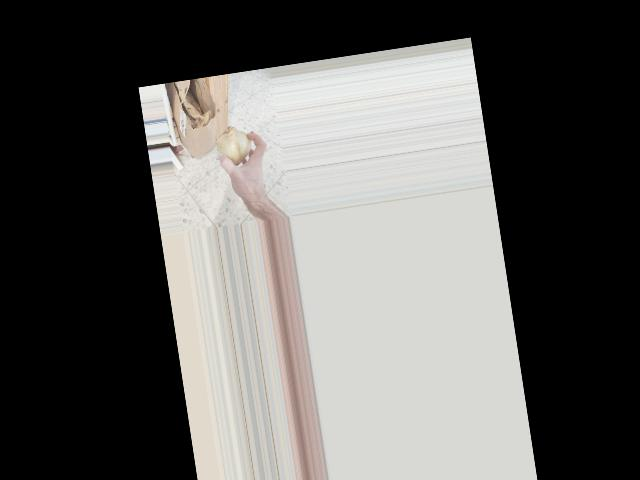onion: (212, 121, 257, 171)
